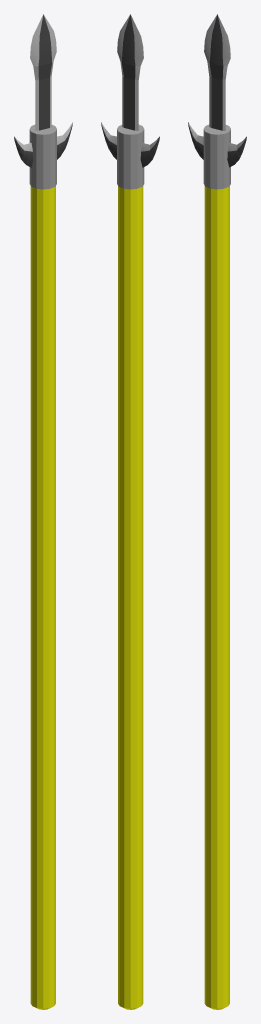
The model's file is Spear_10.fbx.
The picture shows the model from 3 angles, left to right: view 1: azimuth 30°, elevation 25°; view 2: azimuth 150°, elevation 25°; view 3: azimuth 330°, elevation 25°; orthographic projection.
Visible parts, largest first — view 1: Spear_10; view 2: Spear_10; view 3: Spear_10.
Part boxes in pixels (box(x1,y1,x2,y2)): Spear_10: box(14, 14, 72, 1009); Spear_10: box(101, 14, 159, 1009); Spear_10: box(188, 14, 246, 1009).
Bounding box in the file's own units: 1.06 × 17.12 × 0.4316.
